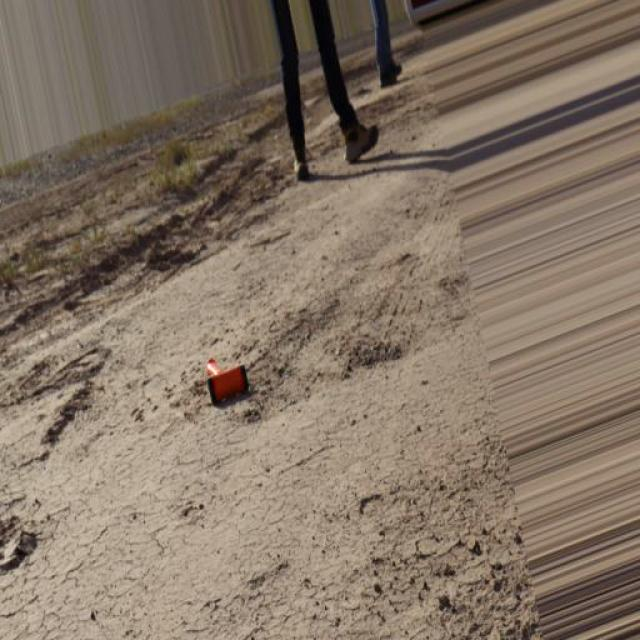mallet: (205, 356, 251, 405)
